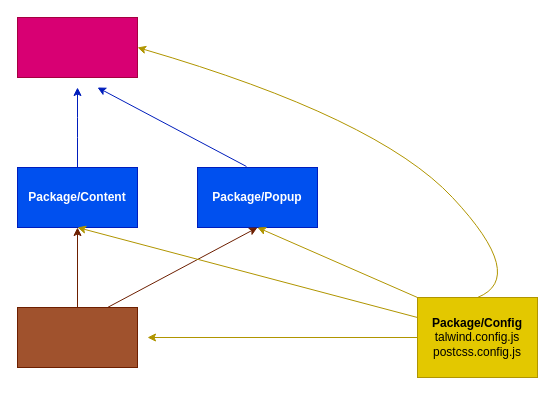
This 555x395 diagram has some shape labels left out. Each missing label, with the box of its shape:
Browser Extension: (16, 16, 138, 78)
Package/UI: (16, 306, 138, 368)
